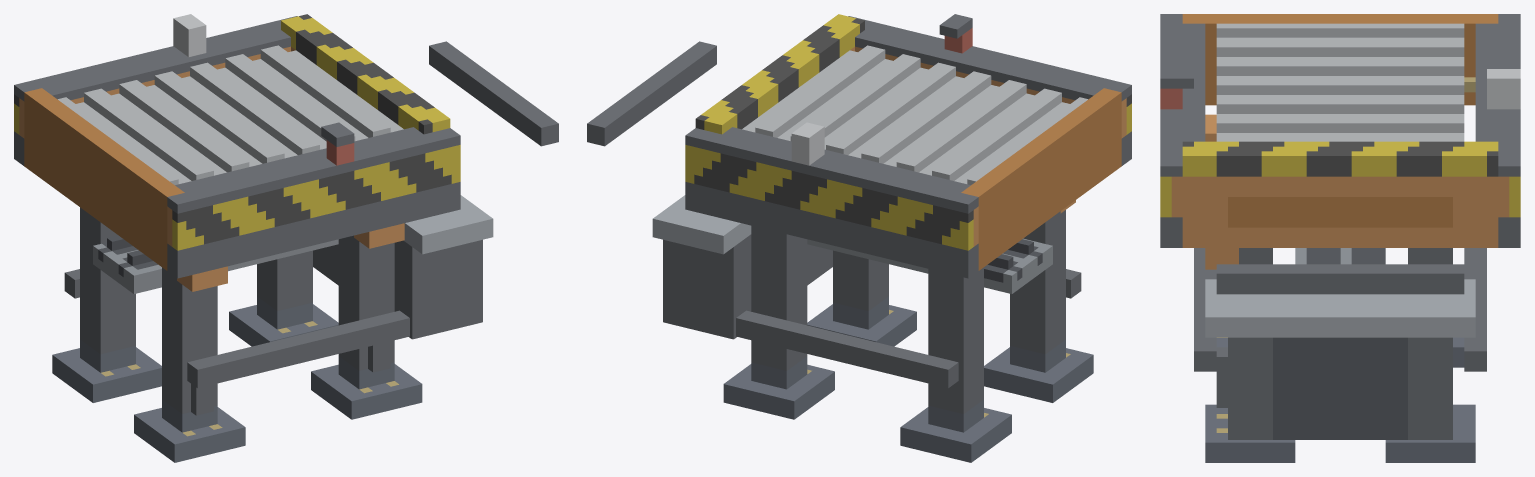
Rendered from conveyor_endstop.glb.
The picture shows the model from 3 angles, left to right: view 1: azimuth 30°, elevation 25°; view 2: azimuth 150°, elevation 25°; view 3: azimuth 270°, elevation 25°; orthographic projection. The views are drawn at different scales.
Parts seen in each view (by area): view 1: conveyor_endstop; view 2: conveyor_endstop; view 3: conveyor_endstop.
Boxes of the visible parts, bbox=[...] form: conveyor_endstop: bbox=[14, 14, 558, 462]; conveyor_endstop: bbox=[587, 14, 1131, 462]; conveyor_endstop: bbox=[1160, 14, 1520, 462].
Bounding box in the file's own units: 1.44 × 1.03 × 1.
